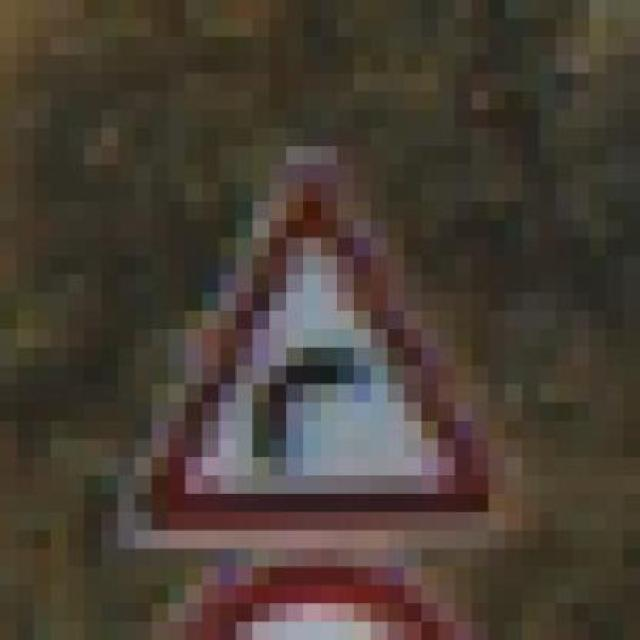Dangerous Rright Curve Ahead: (101, 128, 522, 530)
